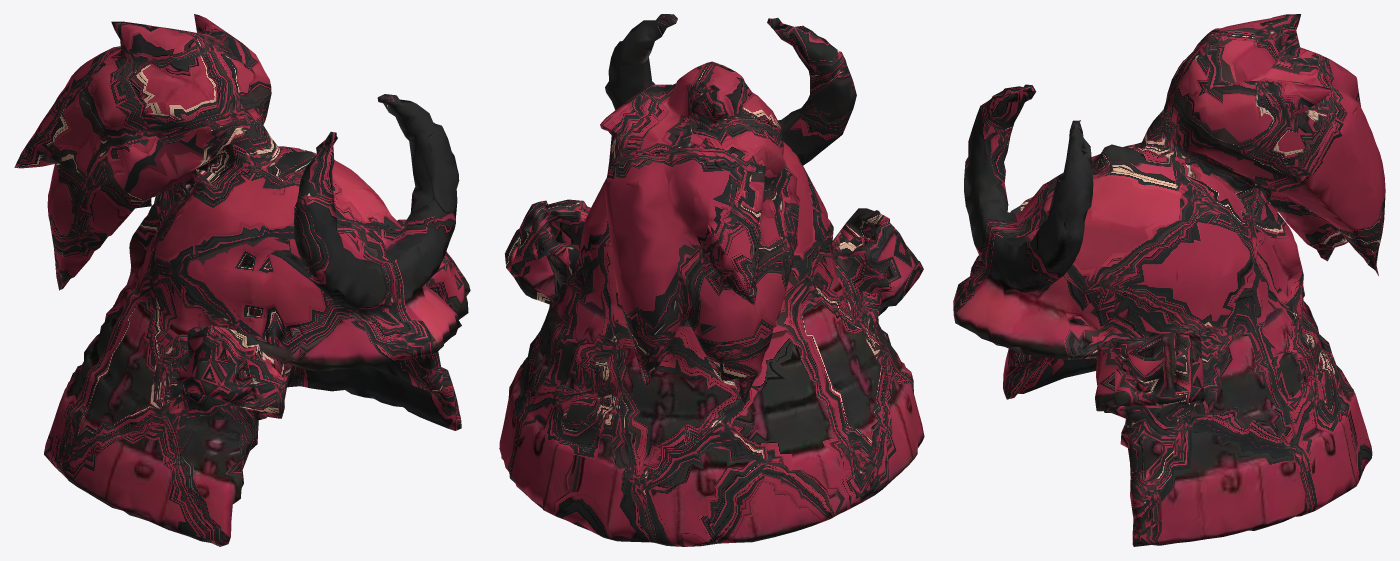
File: samurai_helm.glb
3 views of the same model, side by side, from view 1: azimuth 30°, elevation 25°; view 2: azimuth 150°, elevation 25°; view 3: azimuth 270°, elevation 25° (orthographic). The views are drawn at different scales.
Bounding box in the file's own units: 0.4277 × 0.4576 × 0.431.
Materials: 1 (1 with a texture image).
